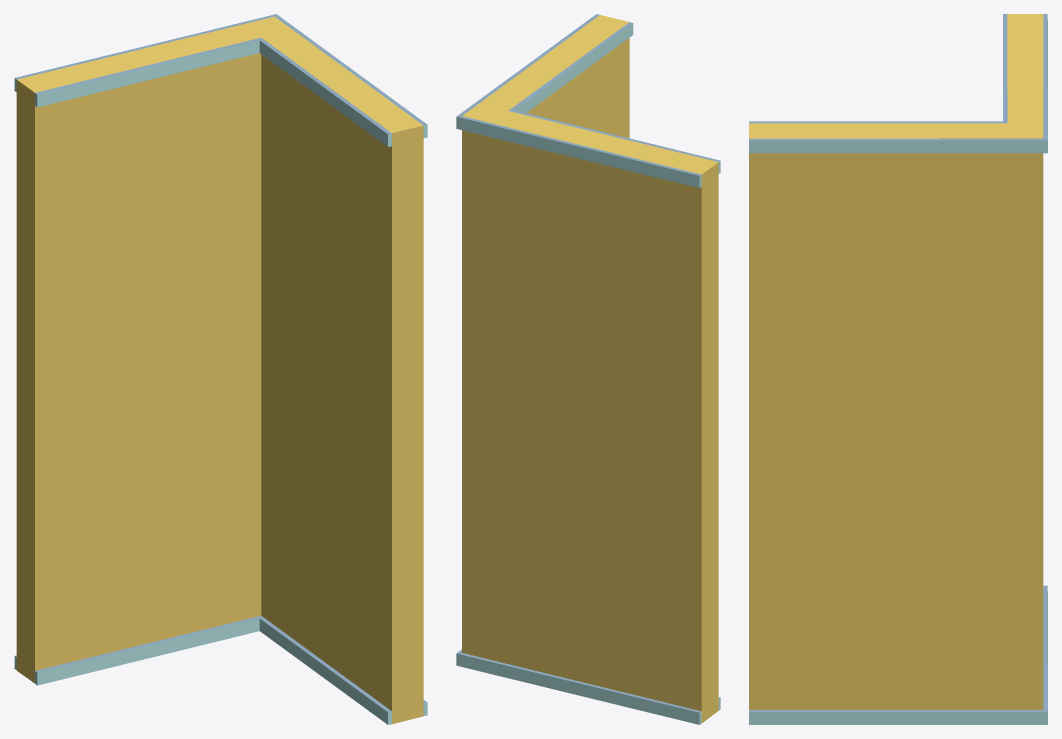
Rendered from Wall Corner.fbx.
3 renders of one model, left to right at view 1: azimuth 30°, elevation 25°; view 2: azimuth 150°, elevation 25°; view 3: azimuth 270°, elevation 25°, orthographic. The views are drawn at different scales.
Visible parts, largest first — view 1: Wall Corner; view 2: Wall Corner; view 3: Wall Corner.
Boxes of the visible parts, x1,y1,x2,y2 form: Wall Corner: (14,14,427,724); Wall Corner: (456,14,720,724); Wall Corner: (749,14,1047,724).
Bounding box in the file's own units: 325 × 700 × 324.
